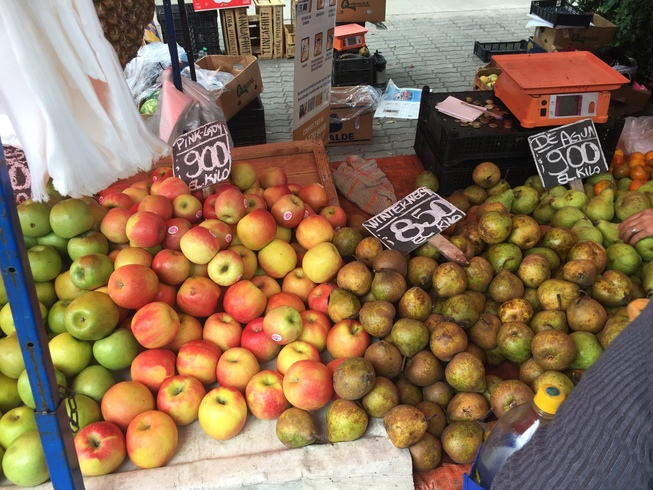precio: (360, 183, 473, 261), (523, 116, 613, 189), (165, 120, 242, 199)
